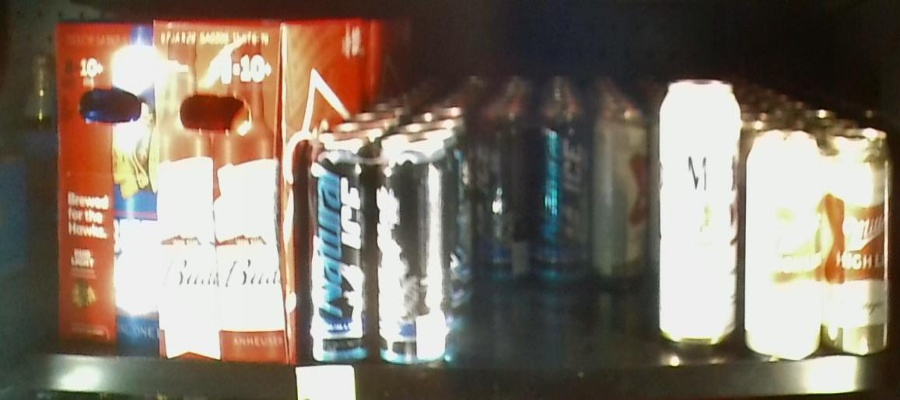bottle: (57, 23, 297, 361), (298, 138, 448, 367), (747, 134, 894, 351), (656, 81, 734, 351), (473, 112, 588, 287), (597, 111, 650, 286)
